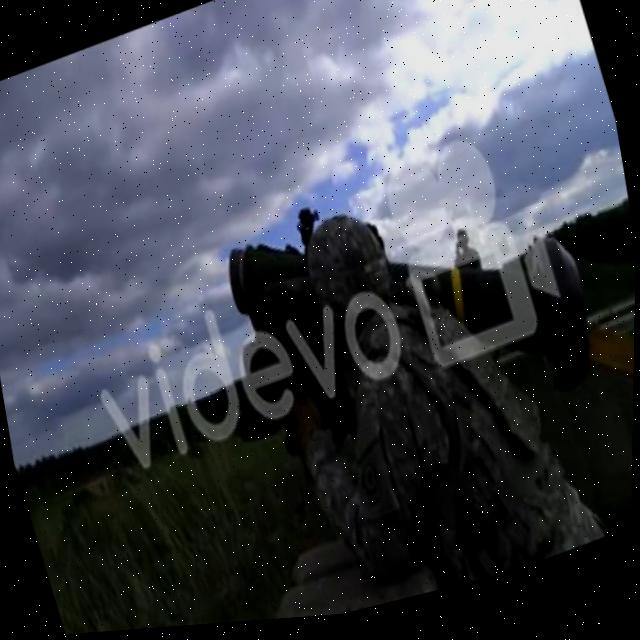rocket: (214, 129, 622, 499)
